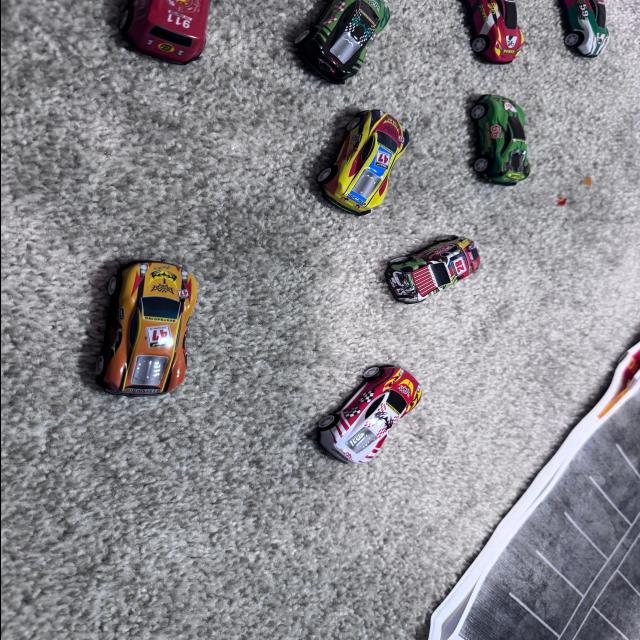Car: (254, 362, 422, 526), (85, 266, 203, 406), (309, 357, 425, 469), (259, 0, 392, 89), (110, 0, 215, 96), (310, 112, 406, 214), (365, 229, 486, 305), (462, 98, 548, 204), (447, 0, 524, 77), (556, 1, 624, 66)
